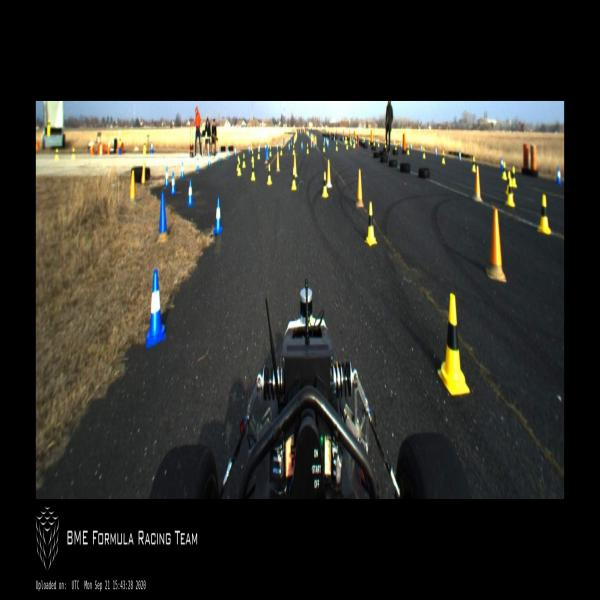blue_cone: (145, 269, 166, 350), (214, 198, 222, 235), (187, 179, 194, 206), (170, 172, 176, 195), (556, 166, 562, 186), (164, 167, 170, 186), (180, 161, 185, 179), (196, 157, 200, 172), (208, 152, 212, 167), (500, 157, 504, 172), (217, 150, 221, 163), (226, 147, 230, 159), (458, 150, 461, 162), (434, 146, 437, 157), (312, 140, 315, 151), (234, 146, 237, 156), (248, 144, 251, 154), (421, 144, 424, 153), (288, 141, 290, 153), (301, 140, 303, 152), (327, 137, 329, 147), (400, 141, 402, 150), (410, 143, 412, 151), (334, 134, 336, 142), (276, 142, 278, 150)
yellow_cone: (436, 291, 470, 397), (364, 200, 378, 246), (538, 193, 552, 237), (506, 176, 516, 208), (321, 172, 329, 199), (291, 168, 297, 191), (510, 169, 516, 192), (502, 162, 508, 182), (251, 162, 256, 182), (267, 164, 272, 184), (471, 155, 476, 172), (238, 159, 242, 176), (242, 154, 246, 169), (442, 151, 446, 164), (422, 147, 426, 159), (237, 156, 240, 170), (292, 144, 296, 154), (252, 150, 255, 163), (269, 146, 272, 157), (306, 143, 309, 154), (407, 144, 410, 155), (258, 149, 260, 160), (280, 146, 282, 156), (323, 142, 325, 152), (336, 140, 338, 150), (353, 138, 355, 148), (378, 137, 380, 146), (350, 137, 352, 146), (346, 141, 348, 149), (395, 142, 397, 150), (384, 140, 386, 148), (368, 137, 370, 145), (362, 136, 364, 144), (373, 138, 375, 145), (356, 136, 357, 144)
